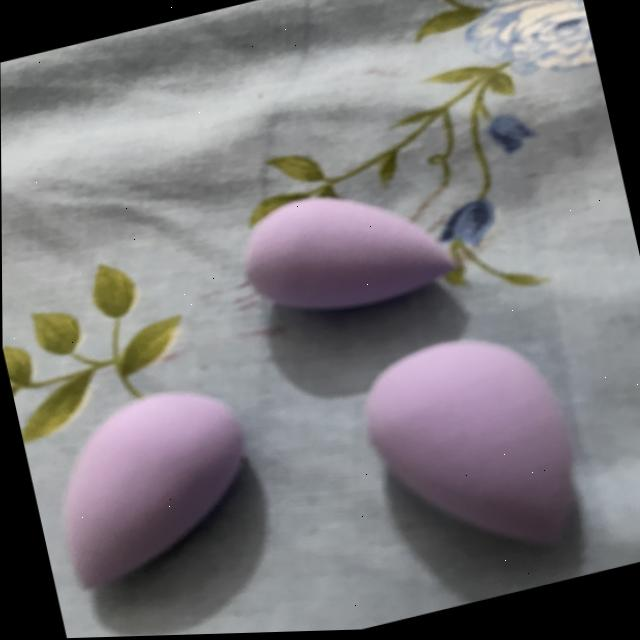beauty blender: (336, 302, 615, 610), (14, 353, 285, 614), (212, 144, 478, 365)
